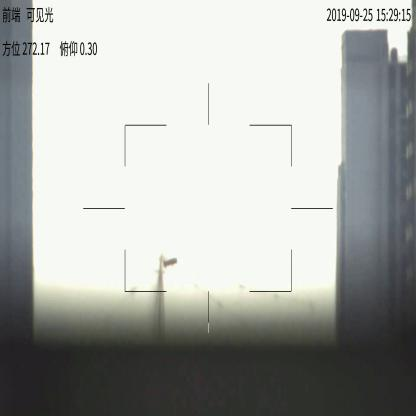uav: (162, 257, 178, 269)
